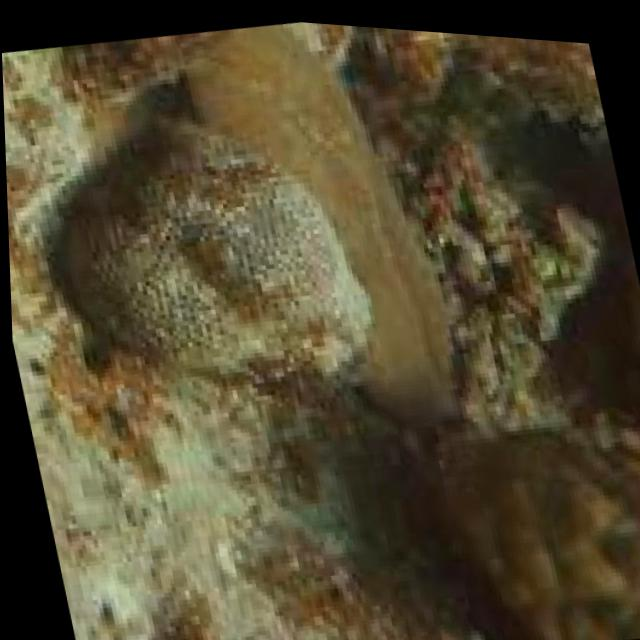Bleached Coral: (2, 56, 393, 437)
Healthy Coral: (250, 16, 460, 437), (413, 369, 640, 640), (374, 22, 603, 148)
